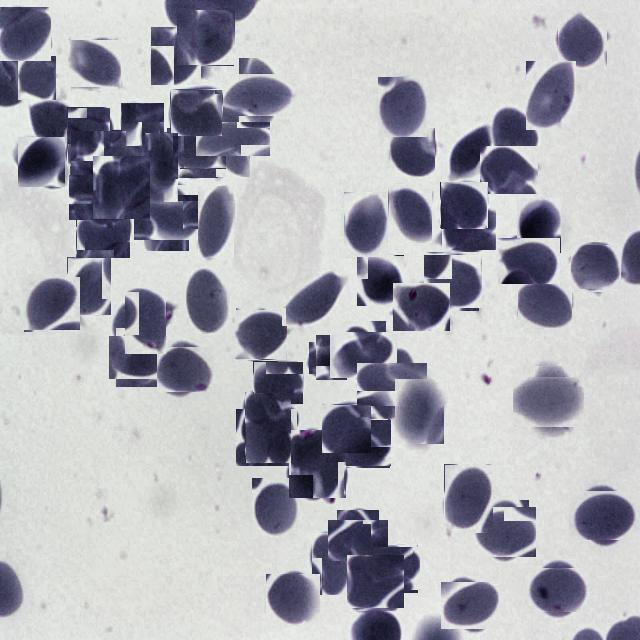red blood cell: (288, 429, 346, 498), (574, 485, 636, 546), (518, 371, 579, 432), (93, 156, 150, 219), (282, 272, 348, 326), (236, 409, 297, 466), (526, 61, 576, 130), (444, 464, 493, 533), (334, 326, 392, 384), (232, 66, 290, 124), (178, 8, 235, 66), (394, 378, 444, 444), (245, 392, 291, 463), (363, 356, 421, 412), (424, 253, 480, 310), (476, 504, 532, 560), (24, 275, 80, 331), (555, 12, 611, 68), (138, 190, 194, 246), (70, 130, 126, 186), (348, 554, 403, 610), (377, 76, 427, 137), (121, 104, 164, 174), (150, 26, 201, 85), (266, 574, 320, 629), (206, 112, 260, 166), (119, 294, 172, 348), (344, 192, 388, 257), (498, 238, 560, 284), (491, 106, 540, 164), (443, 579, 496, 632), (532, 563, 585, 616), (72, 172, 126, 224), (252, 478, 298, 539), (186, 268, 229, 333), (480, 146, 538, 194), (0, 7, 51, 61), (393, 283, 450, 331), (67, 107, 112, 166), (332, 514, 383, 566), (388, 183, 432, 243), (112, 332, 163, 383), (236, 308, 287, 359), (76, 210, 130, 258), (198, 186, 234, 258), (67, 257, 111, 315), (160, 344, 210, 395), (70, 39, 120, 90), (518, 281, 572, 328), (172, 124, 222, 174), (17, 137, 66, 187), (356, 255, 404, 306), (170, 89, 222, 136), (517, 198, 561, 253), (322, 404, 371, 453), (144, 132, 178, 202), (388, 128, 436, 176), (572, 243, 620, 291), (311, 532, 347, 595), (442, 208, 496, 250), (344, 420, 391, 468), (440, 182, 488, 228), (451, 122, 491, 176), (253, 361, 303, 404), (30, 98, 75, 145), (374, 546, 419, 592), (18, 56, 56, 100), (312, 338, 350, 378)
